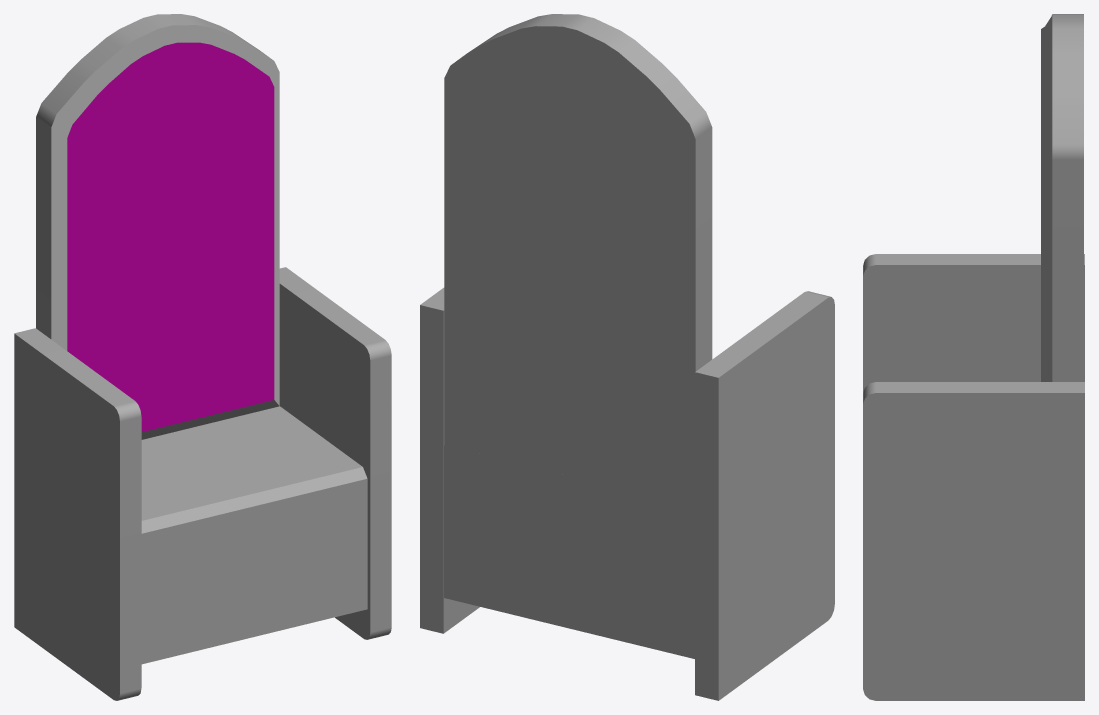
Rendered from ThroneV01_01.fbx.
3 renders of one model, left to right at view 1: azimuth 30°, elevation 25°; view 2: azimuth 150°, elevation 25°; view 3: azimuth 270°, elevation 25°, orthographic. The views are drawn at different scales.
Parts seen in each view (by area): view 1: polySurface1; view 2: polySurface1; view 3: polySurface1.
Boxes of the visible parts, box(x1,y1,x2,y2) form: polySurface1: box(14, 14, 391, 700); polySurface1: box(420, 14, 834, 700); polySurface1: box(863, 14, 1084, 700).
Bounding box in the file's own units: 415 × 845 × 280.
